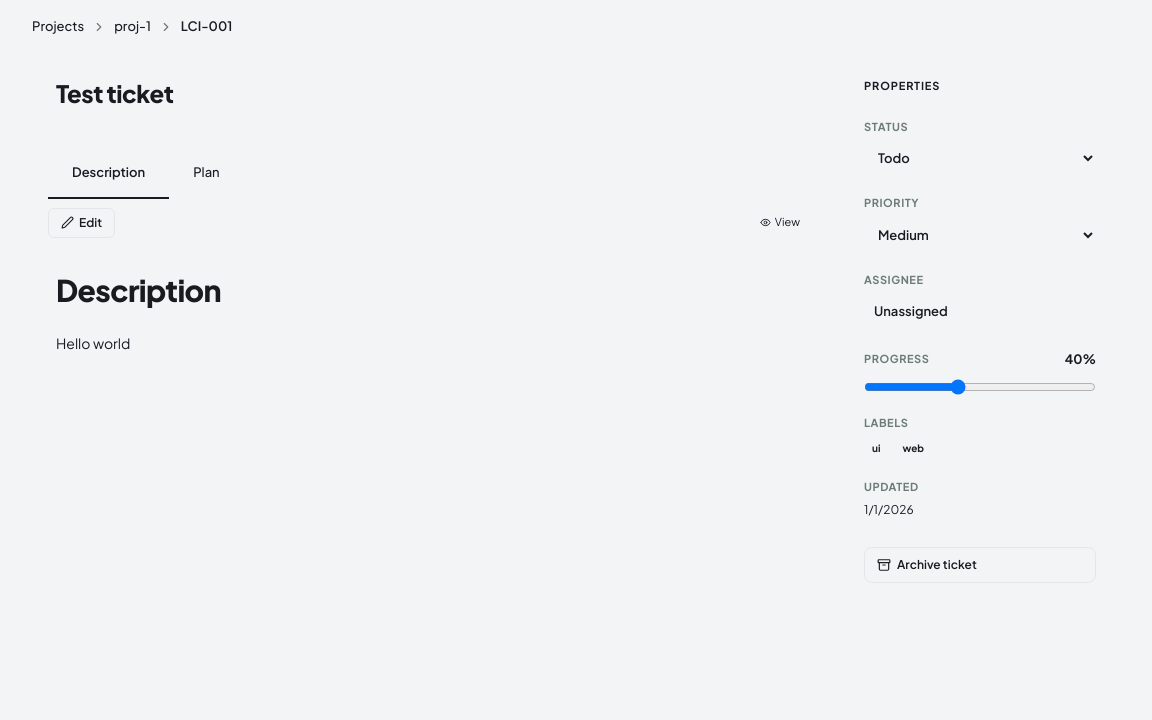
TicketDetailPage › document tabs › clicking the Plan tab shows its doc view
The width and height of the screenshot is (1152, 720).
Check: the text "LCI-001" is shown, box [181,17,232,37]
What coordinates should you click on to do the following:
click the tab with id "tab-plan"
I would click on:
 (206, 174)
Its box is [169,149,244,199].
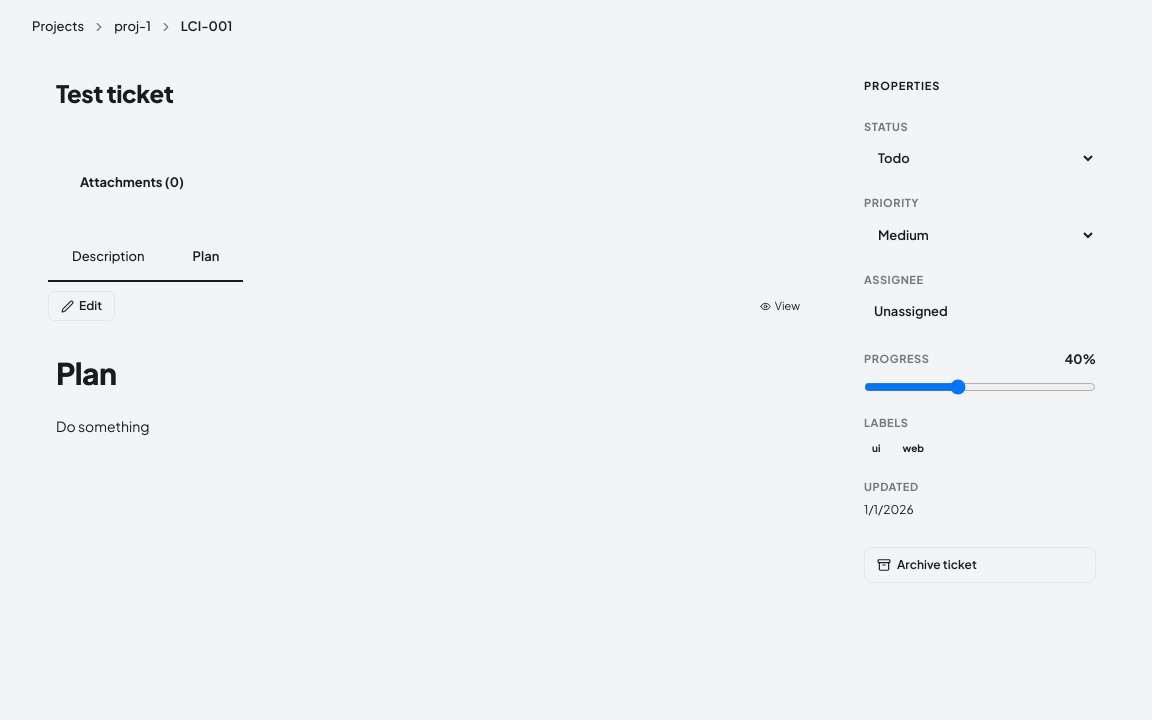
Check: the element with id "doc-view-plan" is shown, box [56,354,150,435]
